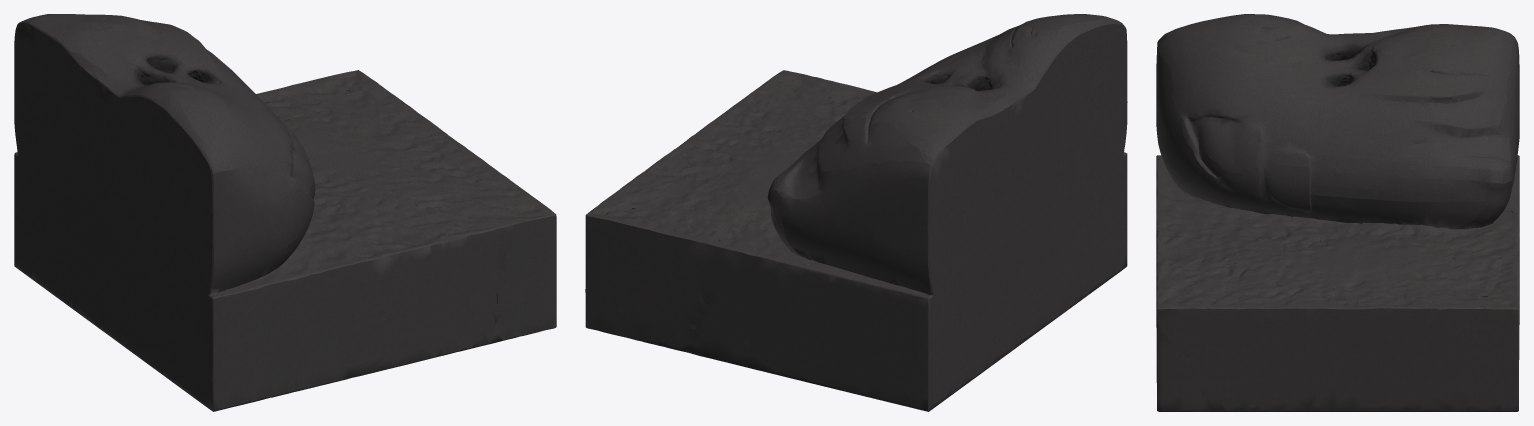
3 renders of one model, left to right at view 1: azimuth 30°, elevation 25°; view 2: azimuth 150°, elevation 25°; view 3: azimuth 270°, elevation 25°, orthographic. The views are drawn at different scales.
Parts seen in each view (by area): view 1: world; view 2: world; view 3: world.
Part boxes in pixels (bbox=[...]): world: bbox=[14, 14, 556, 411]; world: bbox=[585, 14, 1127, 411]; world: bbox=[1156, 14, 1519, 411].
Size of the model in its own units: 1.2 by 0.9152 by 1.2.
Materials: 1 (1 with a texture image).
